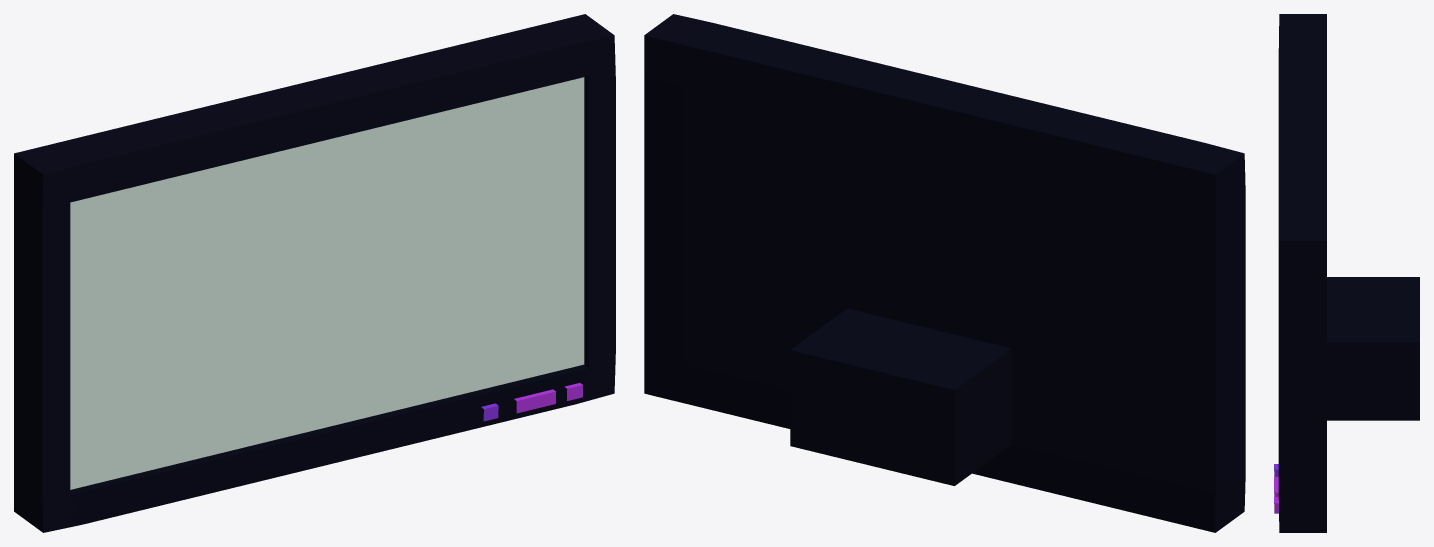
Rendered from RivenRoom_Monitor04.fbx.
3 renders of one model, left to right at view 1: azimuth 30°, elevation 25°; view 2: azimuth 150°, elevation 25°; view 3: azimuth 270°, elevation 25°, orthographic. The views are drawn at different scales.
Parts seen in each view (by area): view 1: Cube.120; view 2: Cube.120; view 3: Cube.120.
Boxes of the visible parts, x1,y1,x2,y2 form: Cube.120: (14, 14, 615, 532); Cube.120: (644, 14, 1245, 532); Cube.120: (1274, 14, 1419, 532).
Bounding box in the file's own units: 137 × 82.21 × 36.99.
